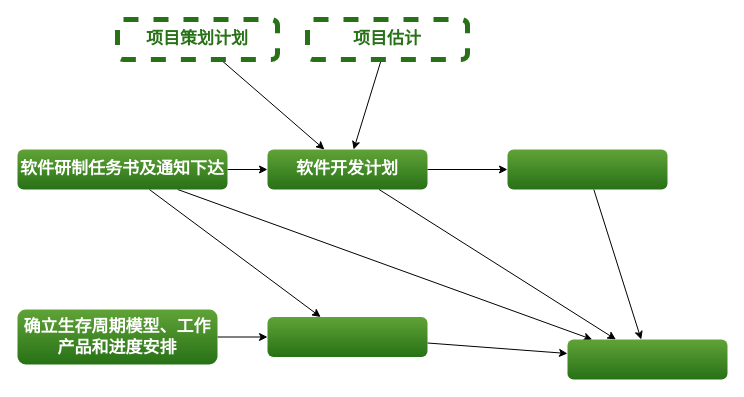
This 744x397 diagram has some shape labels left out. The centre of each missing label's shape, as x and y in pixels:
"测量与分析计划" belongs at point (647, 359).
"质量保证计划" belongs at point (347, 336).
"配置管理计划" belongs at point (587, 169).
